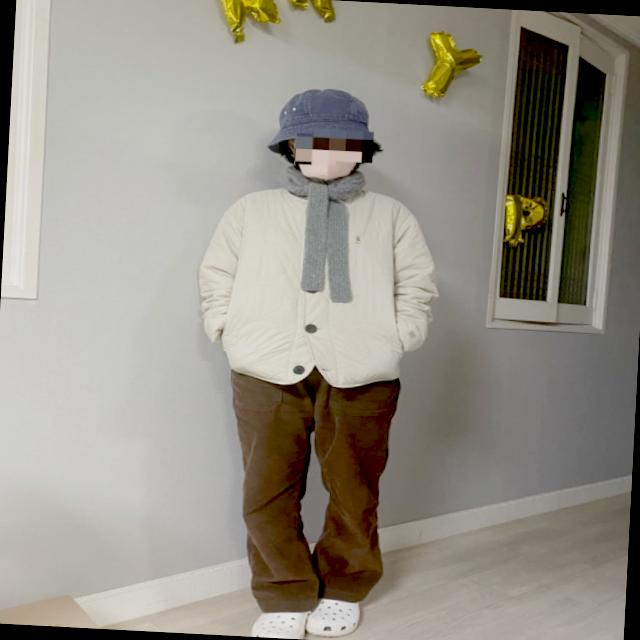cottonpants: (212, 357, 404, 616)
padding: (198, 175, 439, 396)
